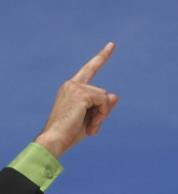up: (44, 41, 121, 140)
